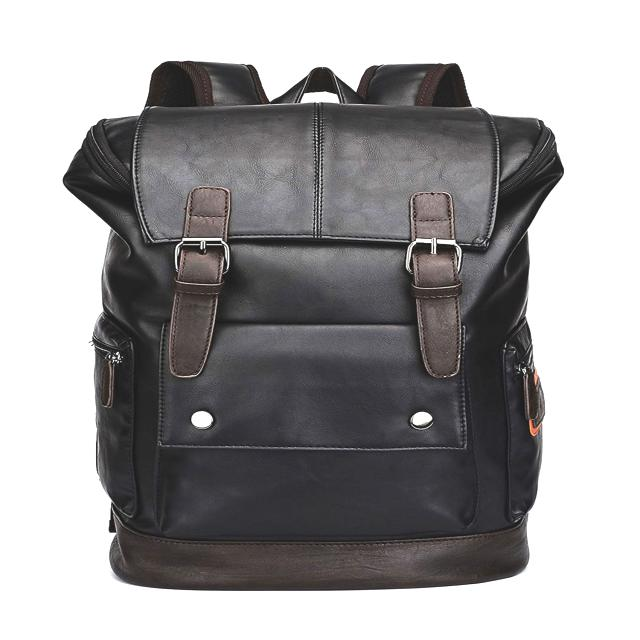backpack: (63, 61, 565, 592)
